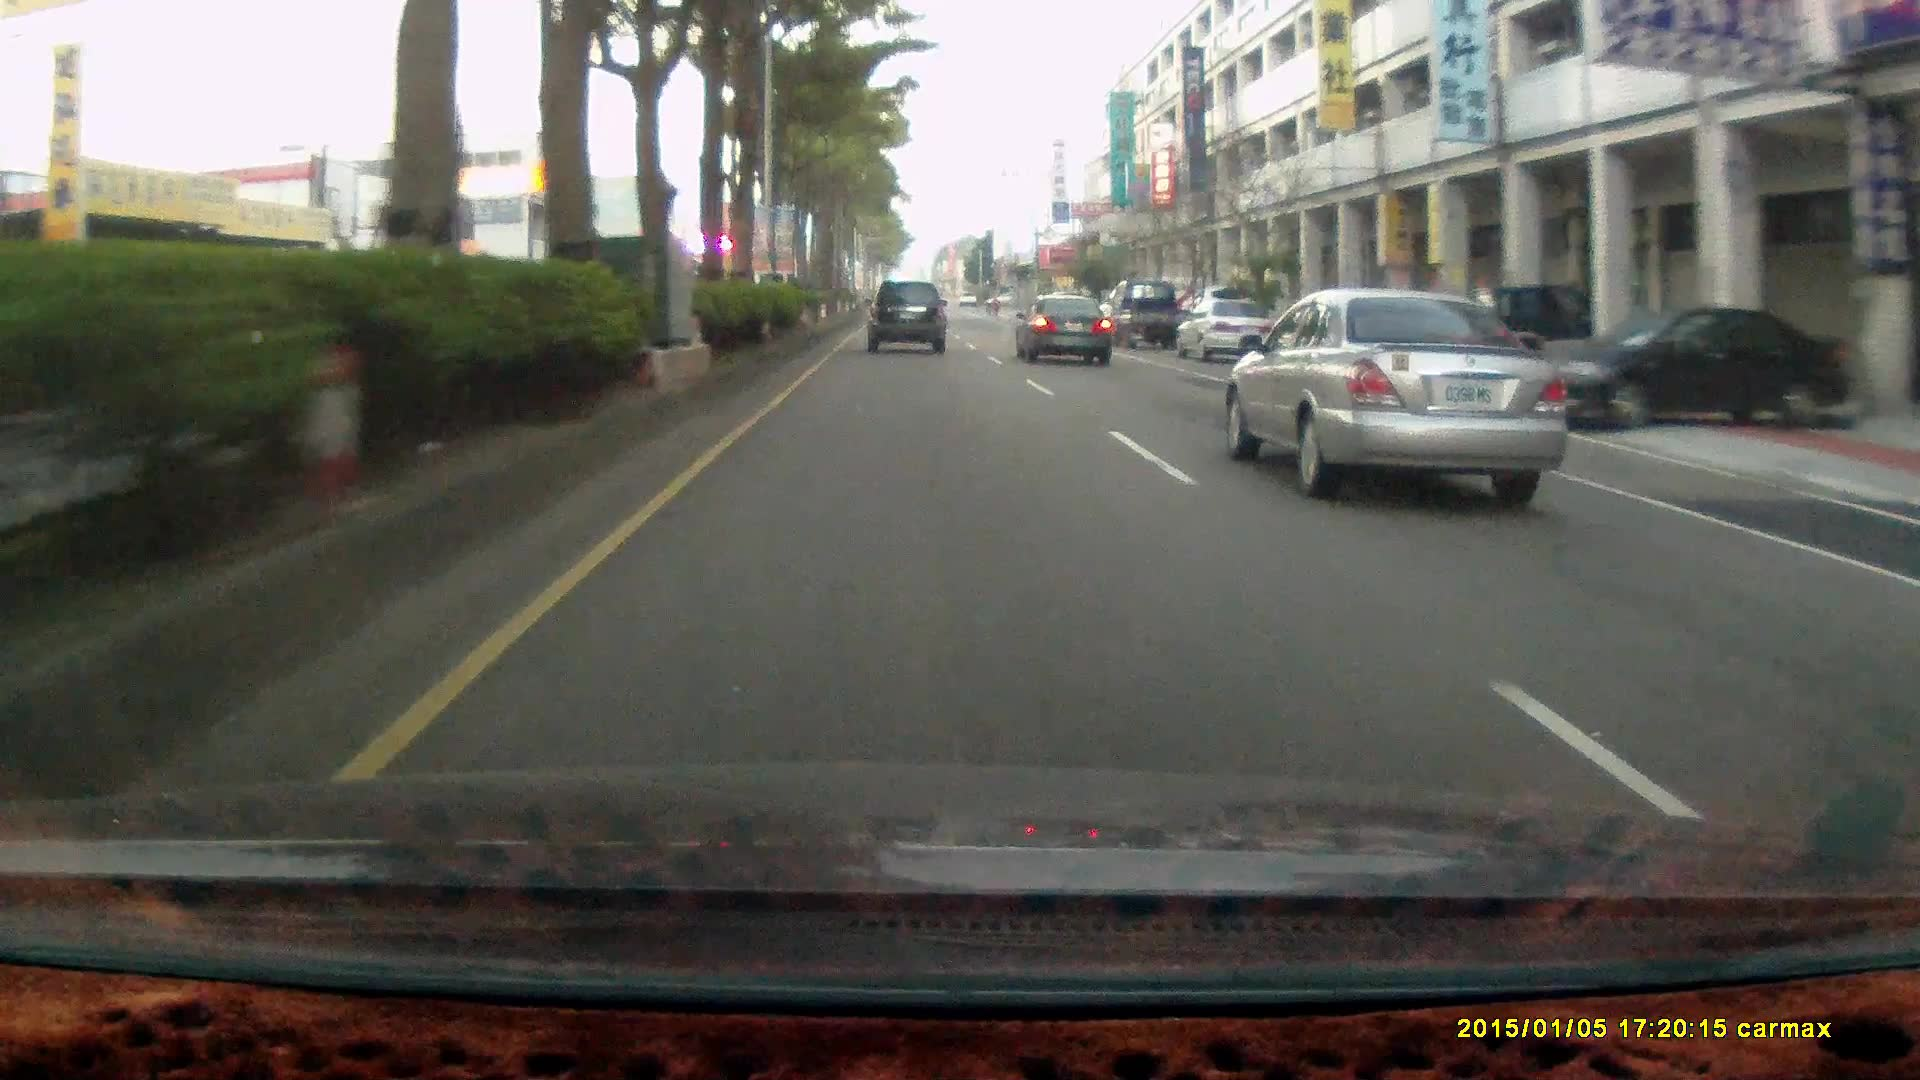vehicle: (1225, 291, 1571, 506), (1534, 302, 1869, 436), (1528, 303, 1850, 434), (1017, 297, 1120, 371), (1013, 293, 1114, 363), (1174, 295, 1279, 363), (1182, 299, 1283, 365), (866, 280, 949, 357), (862, 280, 945, 349), (1104, 278, 1180, 349)
